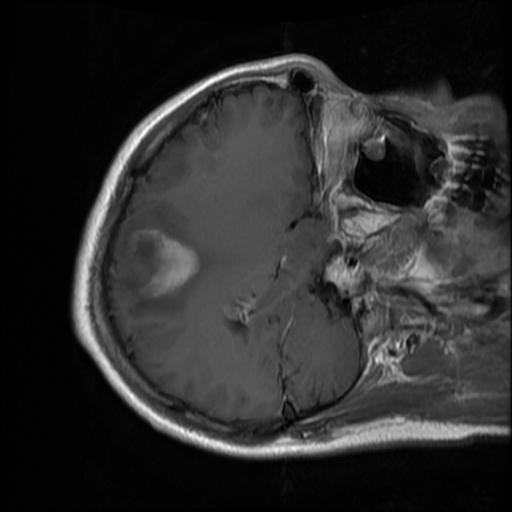glioma: (116, 228, 201, 299)
